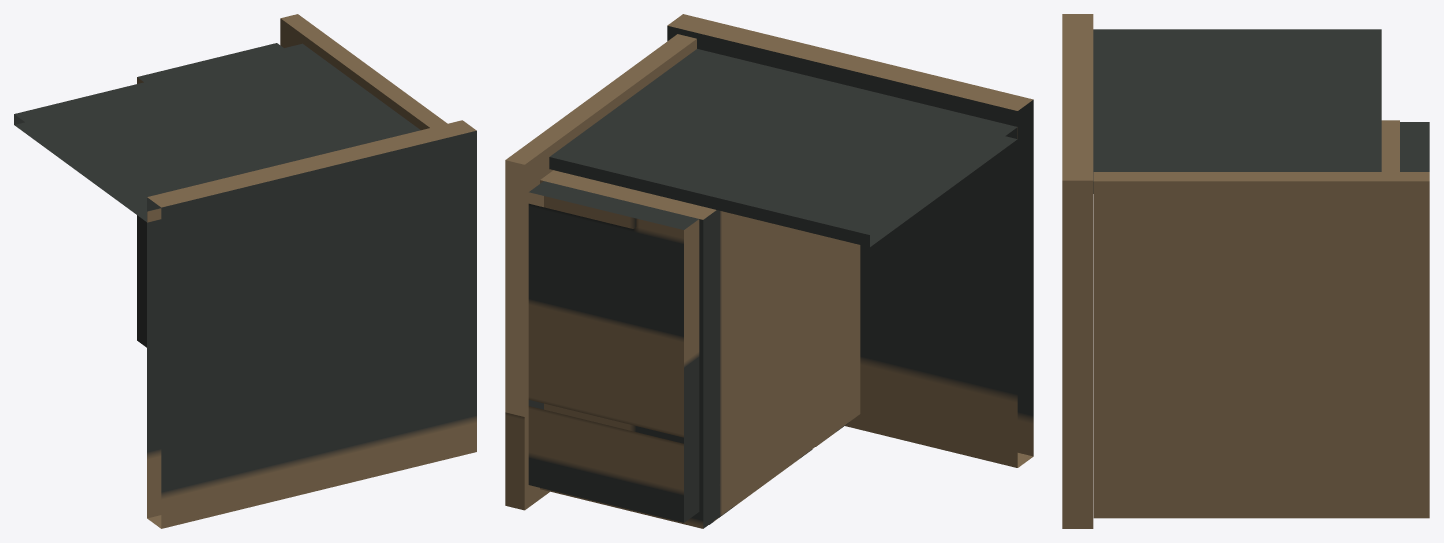
Rendered from section-5.obj.
3 views of the same model, side by side, from view 1: azimuth 30°, elevation 25°; view 2: azimuth 150°, elevation 25°; view 3: azimuth 270°, elevation 25° (orthographic). The views are drawn at different scales.
Bounding box in the file's own units: 0.902 × 0.879 × 0.8395.
